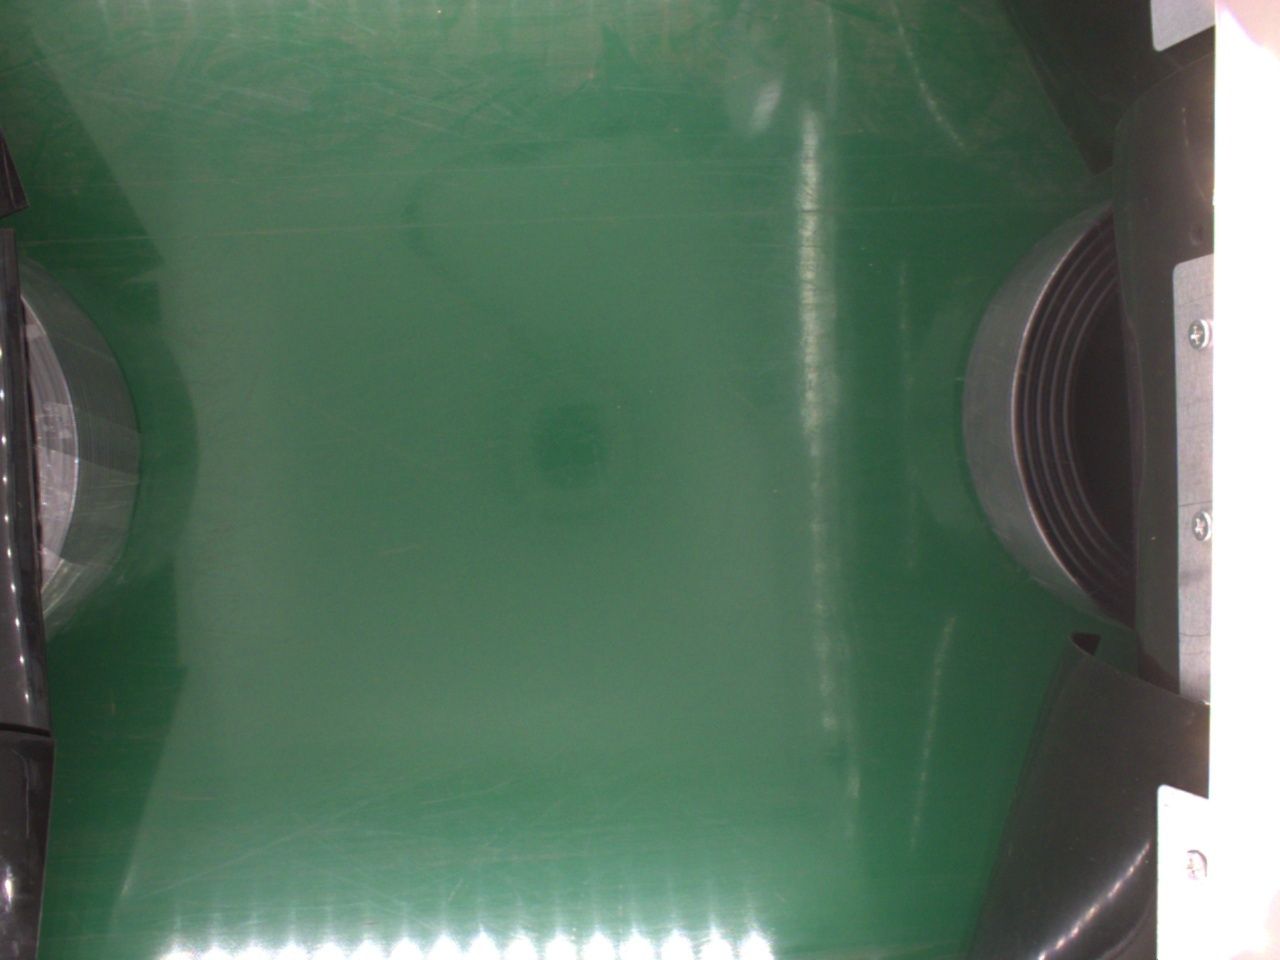black: (959, 203, 1143, 641), (14, 255, 145, 631)
